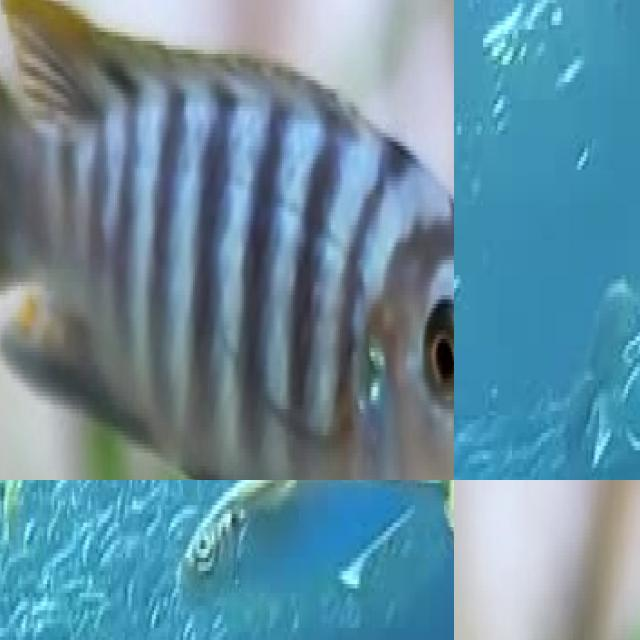fish: (0, 0, 454, 480)
